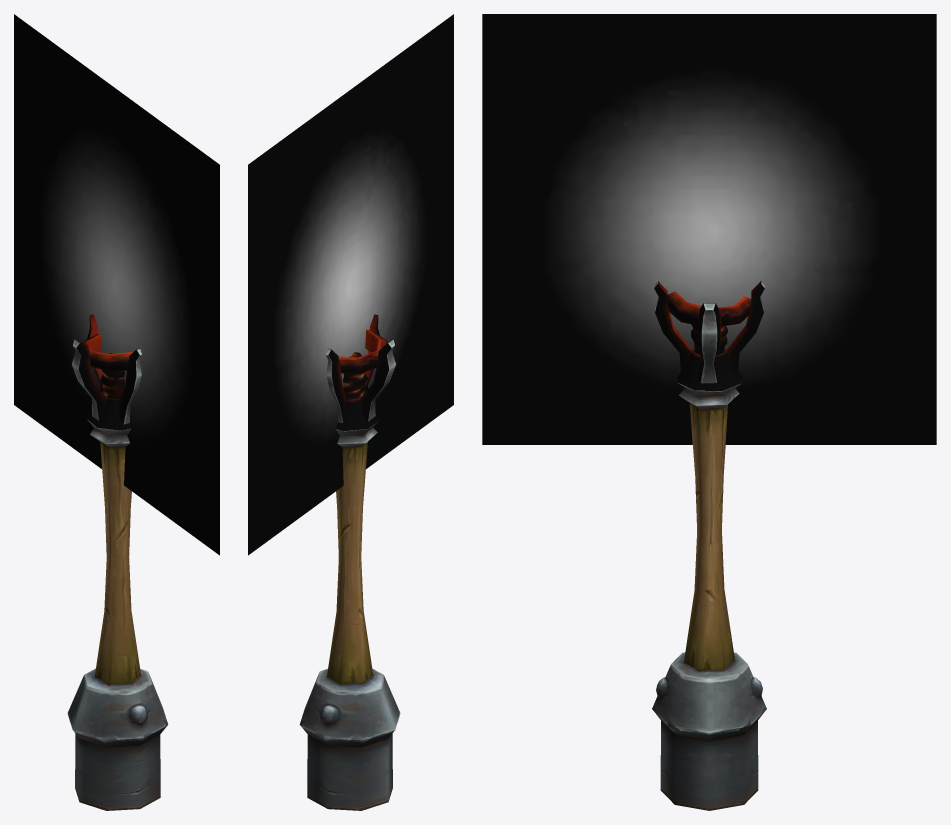
The picture shows the model from 3 angles, left to right: view 1: azimuth 30°, elevation 25°; view 2: azimuth 150°, elevation 25°; view 3: azimuth 270°, elevation 25°; orthographic projection. The views are drawn at different scales.
Size of the model in its own units: 0.6371 by 4.74 by 2.51.
3 materials, 3 textured.
